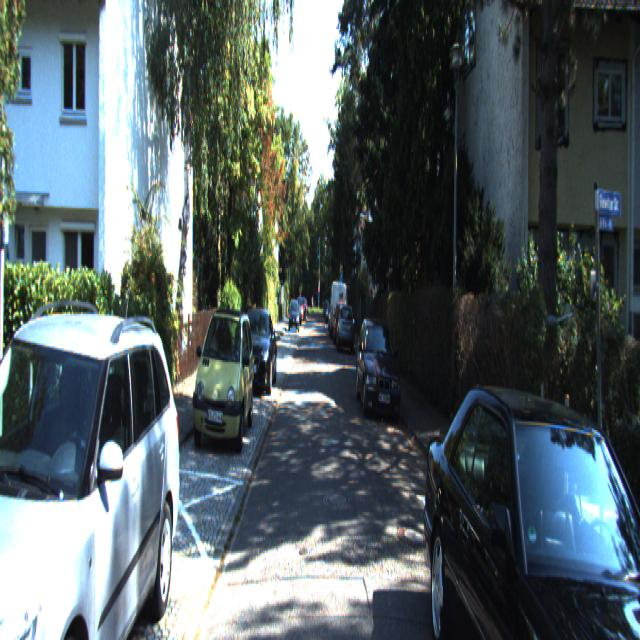Car: (0, 297, 186, 638), (420, 355, 640, 638), (192, 308, 254, 458), (355, 315, 402, 422), (237, 304, 276, 394), (330, 277, 347, 339), (337, 302, 354, 353)
